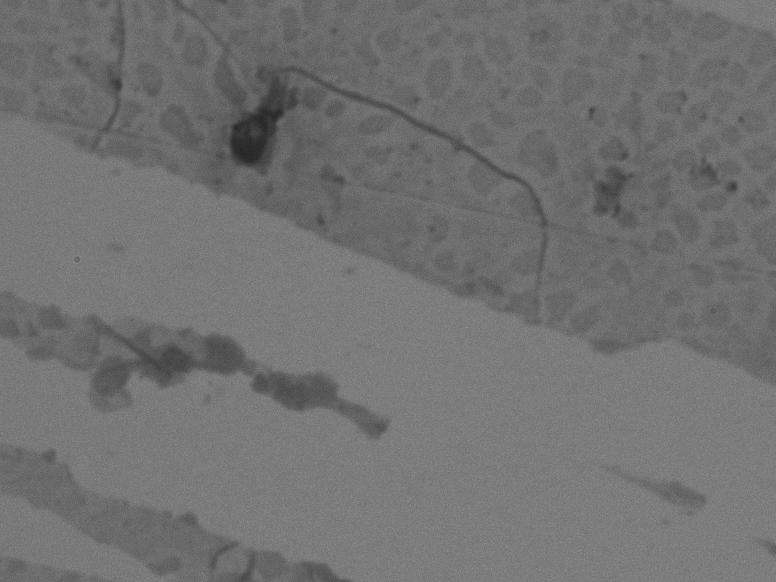Abnormal: (212, 42, 580, 307)
